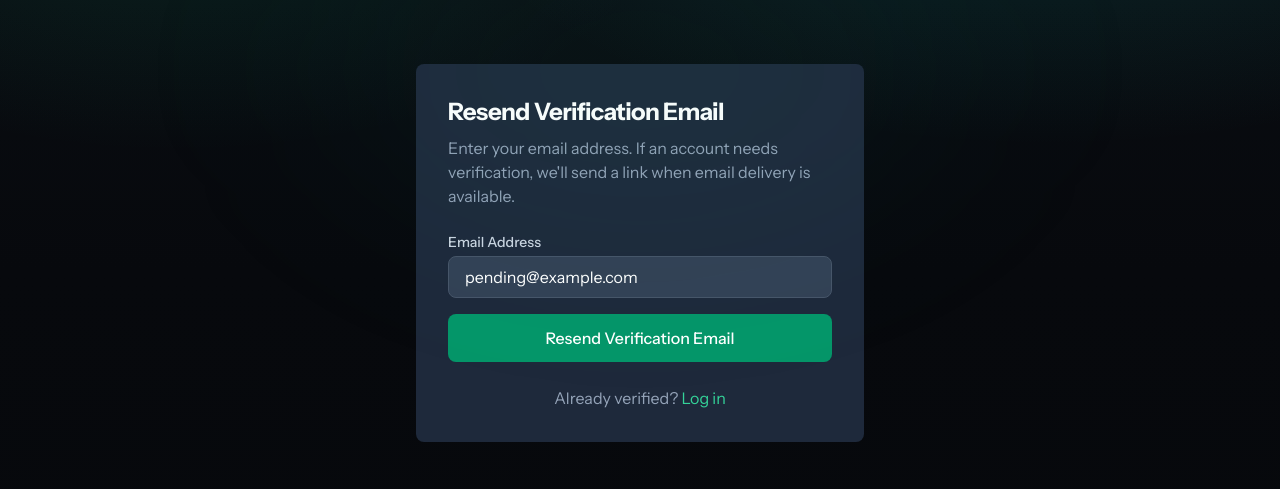
Test: ResendVerificationPage › resends to the supplied email and gives truthful account-neutral guidance
Click the button "Resend Verification Email" at [640, 338], box [448,314,832,362]
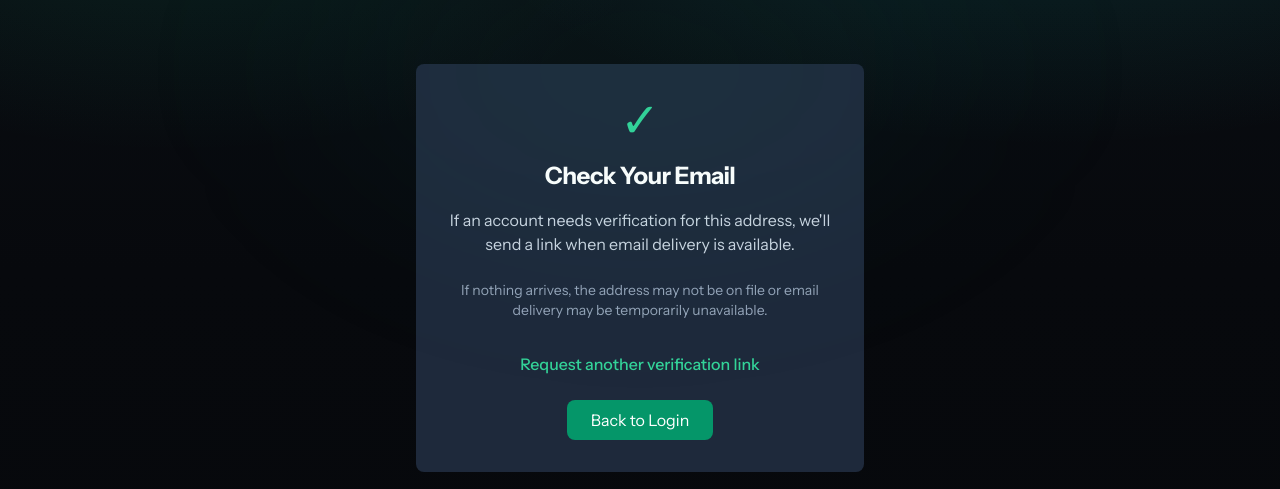
Expected: the heading "Check Your Email" is shown, [545,161,735,190]
Expected: the text "If an account needs verification for this address" is shown, [450,210,830,254]
Expected: the text "the address may not be on file or email delivery may be temporarily unavailable" is shown, [461,281,819,319]
